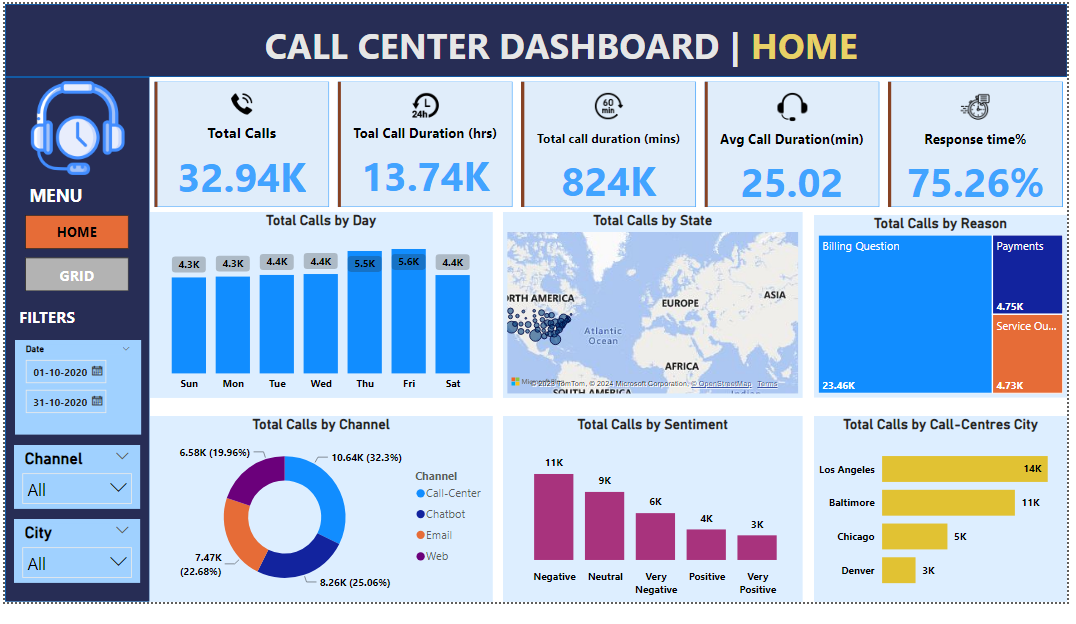

The page's visual inventory and layout, read from the dashboard file:
{"tool":"powerbi","page":{"name":"HOME","canvas":[1280,720],"ordinal":0},"visuals":[{"type":"textbox","box":[10,0,280,280],"z":0},{"type":"shape","box":[0,0,1280,88],"z":1000},{"type":"shape","box":[0,88,174.4,632.4],"z":2000},{"type":"cardVisual","fields":{"Data":["Call Center_Call Center.Total Calls","Call Center_Call Center.Toal Call Duration (hrs)","Call Center_Call Center.Total call duration (mins)","Call Center_Call Center.Avg Call Duration(min)","Call Center_Call Center.Response time%"]},"box":[174.4,88,1105.6,162.3],"z":3000},{"type":"textbox","box":[212.3,15.2,916,72.8],"z":4000},{"type":"columnChart","fields":{"Category":["Date Table.Day"],"Y":["Call Center_Call Center.Total Calls"]},"box":[174.4,250.2,412.5,224.5],"z":5000},{"type":"map","fields":{"Category":["Call Center_Call Center.State"],"Size":["Call Center_Call Center.Total Calls"]},"box":[600.6,250.2,360.9,224.5],"z":6000},{"type":"treemap","fields":{"Group":["Call Center_Call Center.Reason"],"Values":["Call Center_Call Center.Total Calls"]},"box":[975.2,254.8,304.8,219.9],"z":7000},{"type":"donutChart","fields":{"Category":["Call Center_Call Center.Channel"],"Y":["Call Center_Call Center.Total Calls"]},"box":[174.4,495.9,412.5,224.5],"z":8000},{"type":"columnChart","fields":{"Category":["Call Center_Call Center.Sentiment"],"Y":["Call Center_Call Center.Total Calls"]},"box":[600.6,495.9,360.9,224.5],"z":9000},{"type":"barChart","fields":{"Category":["Call Center_Call Center.Call-Centres City"],"Y":["Call Center_Call Center.Total Calls"]},"box":[975,496,305,224],"z":10000},{"type":"slicer","fields":{"Values":["Date Table.Date"]},"box":[12.1,404.9,151.7,113.7],"z":11000},{"type":"slicer","fields":{"Values":["Call Center_Call Center.Channel"]},"box":[10.6,530.8,151.7,77.3],"z":12000},{"type":"slicer","fields":{"Values":["Call Center_Call Center.City"]},"box":[10.6,620.3,151.7,77.3],"z":13000},{"type":"image","box":[24.3,88,125.9,122.8],"z":14000},{"type":"pageNavigator","box":[24.3,254.8,125.9,92.5],"z":15000},{"type":"textbox","box":[24.3,210.8,83.4,39.4],"z":16000},{"type":"textbox","box":[12.1,359.4,112.2,39.4],"z":17000}]}

Visuals, with their boxes on the page's 1280x720 design canvas (x1, y1, x2, y2). These are canvas units, not pixel positions in the 1076x624 screenshot, which may show the page scaled, cropped or inside an application window:
textbox: [10, 0, 290, 280]
shape: [0, 0, 1280, 88]
shape: [0, 88, 174, 720]
cardVisual - Call Center_Call Center.Total Calls x Call Center_Call Center.Toal Call Duration (hrs): [174, 88, 1280, 250]
textbox: [212, 15, 1128, 88]
columnChart - Date Table.Day x Call Center_Call Center.Total Calls: [174, 250, 587, 475]
map - Call Center_Call Center.State x Call Center_Call Center.Total Calls: [601, 250, 962, 475]
treemap - Call Center_Call Center.Reason x Call Center_Call Center.Total Calls: [975, 255, 1280, 475]
donutChart - Call Center_Call Center.Channel x Call Center_Call Center.Total Calls: [174, 496, 587, 720]
columnChart - Call Center_Call Center.Sentiment x Call Center_Call Center.Total Calls: [601, 496, 962, 720]
barChart - Call Center_Call Center.Call-Centres City x Call Center_Call Center.Total Calls: [975, 496, 1280, 720]
slicer - Date Table.Date: [12, 405, 164, 519]
slicer - Call Center_Call Center.Channel: [11, 531, 162, 608]
slicer - Call Center_Call Center.City: [11, 620, 162, 698]
image: [24, 88, 150, 211]
pageNavigator: [24, 255, 150, 347]
textbox: [24, 211, 108, 250]
textbox: [12, 359, 124, 399]
